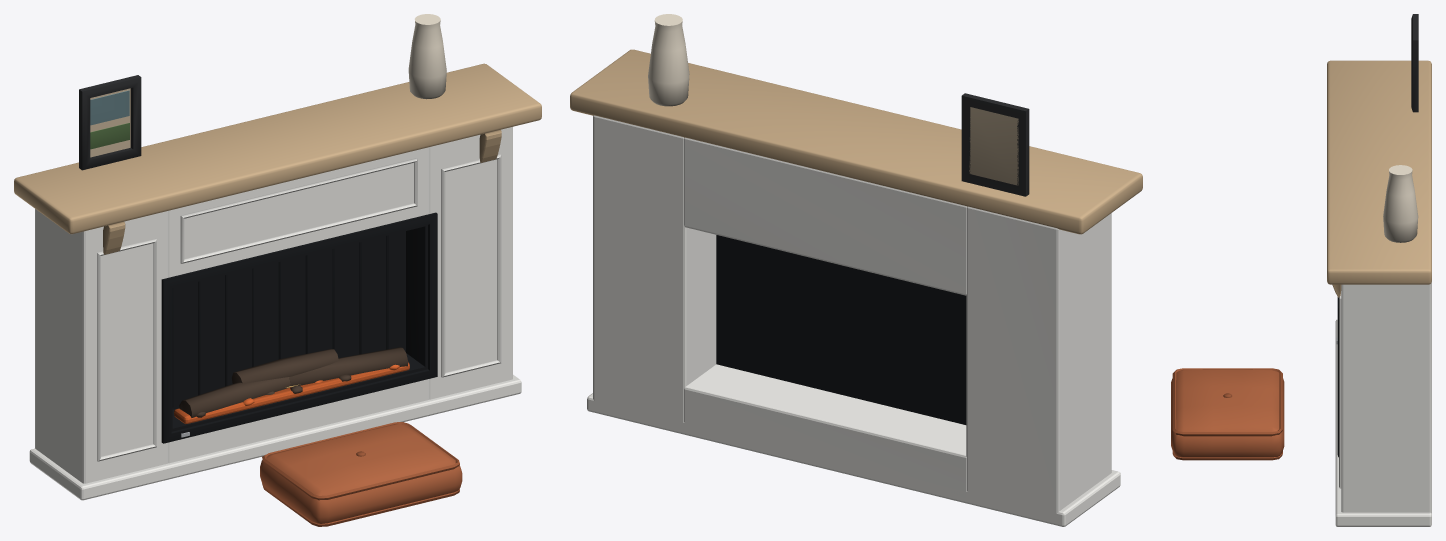
Rendered from fireplaceElectric.glb.
3 views of the same model, side by side, from view 1: azimuth 30°, elevation 25°; view 2: azimuth 150°, elevation 25°; view 3: azimuth 270°, elevation 25° (orthographic). The views are drawn at different scales.
Visible parts, largest first — view 1: fireplaceElectric; view 2: fireplaceElectric; view 3: fireplaceElectric.
Boxes of the visible parts, x1,y1,x2,y2 form: fireplaceElectric: (14,14,541,526); fireplaceElectric: (570,14,1142,526); fireplaceElectric: (1171,14,1431,526).
Bounding box in the file's own units: 1.76 × 1.32 × 0.92.
